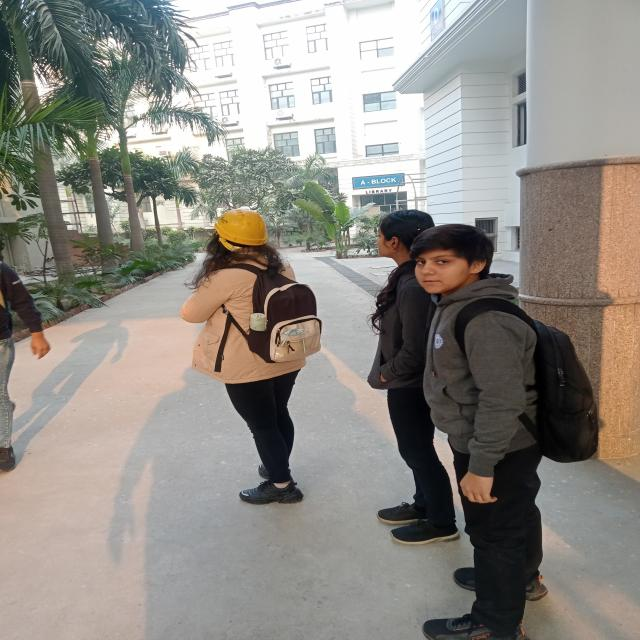no jacket: (184, 203, 332, 508)
unsafe: (405, 227, 555, 640), (350, 218, 462, 542)
